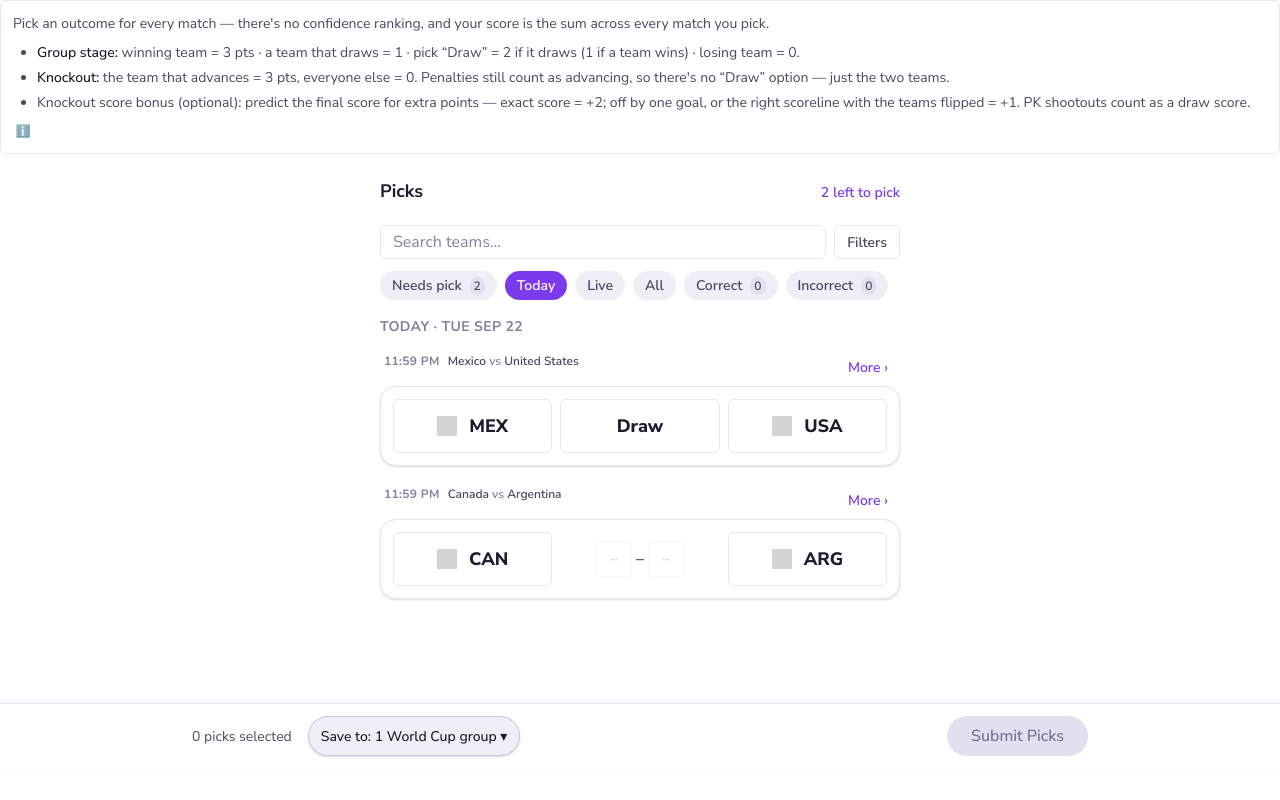
it: WorldCupPicksTab › fans the same picks out to every selected World Cup group via the dropdown
expect the element showing "Mexico vs United States" is shown: met, box [448,353,579,369]
Click the button "MEX" at (473, 426), box [393,399,552,453]
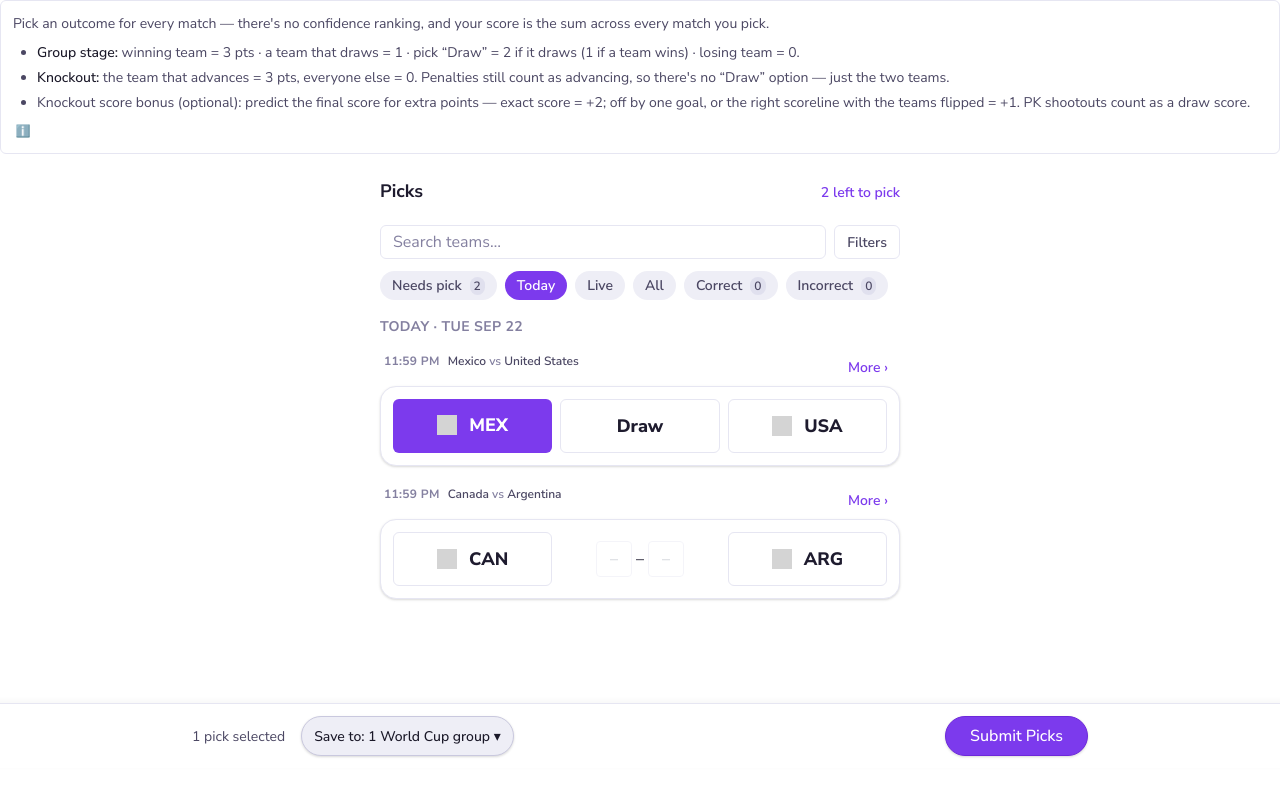
Click the button with aria-label "Choose groups to save picks to" at (407, 736), box [301,716,514,756]
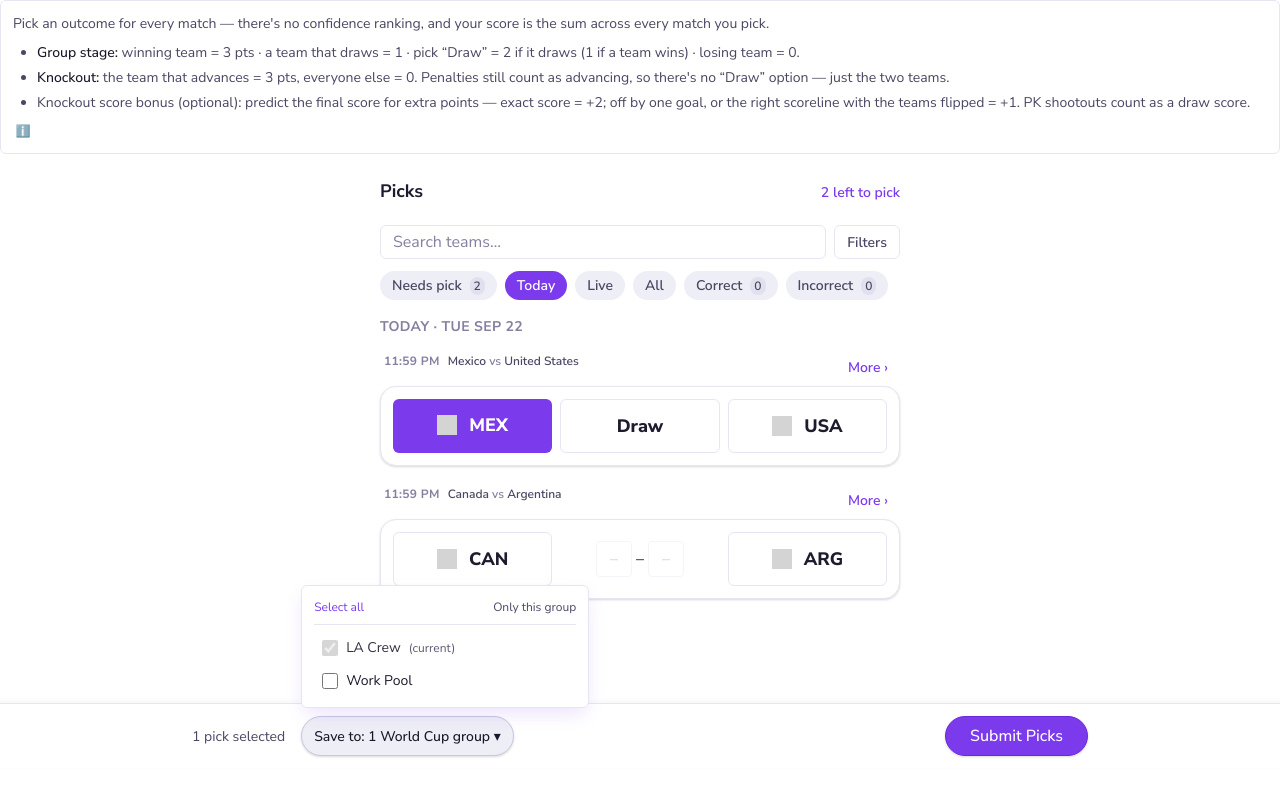
Click the checkbox labelled "Work Pool" at (330, 680), box [322,672,338,688]
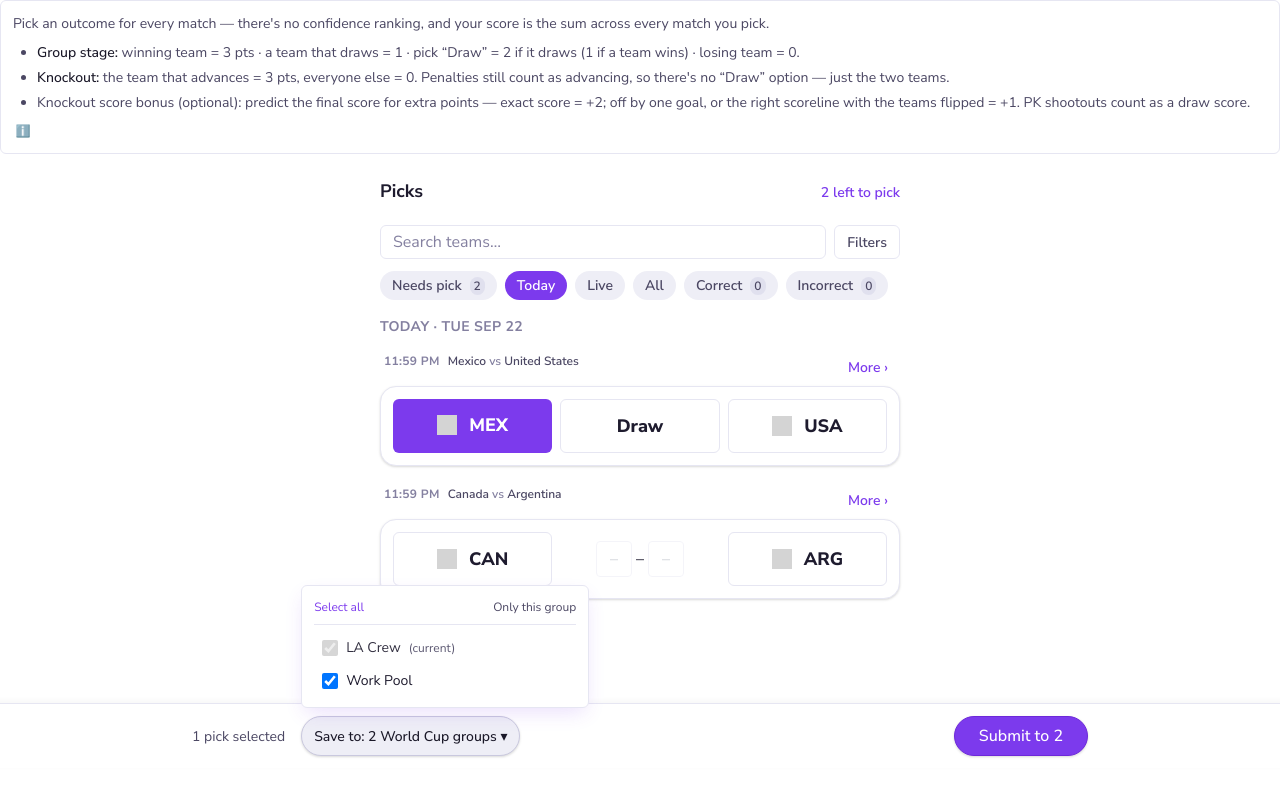
Click the button "Submit to 2" at (1021, 736), box [954,716,1088,756]
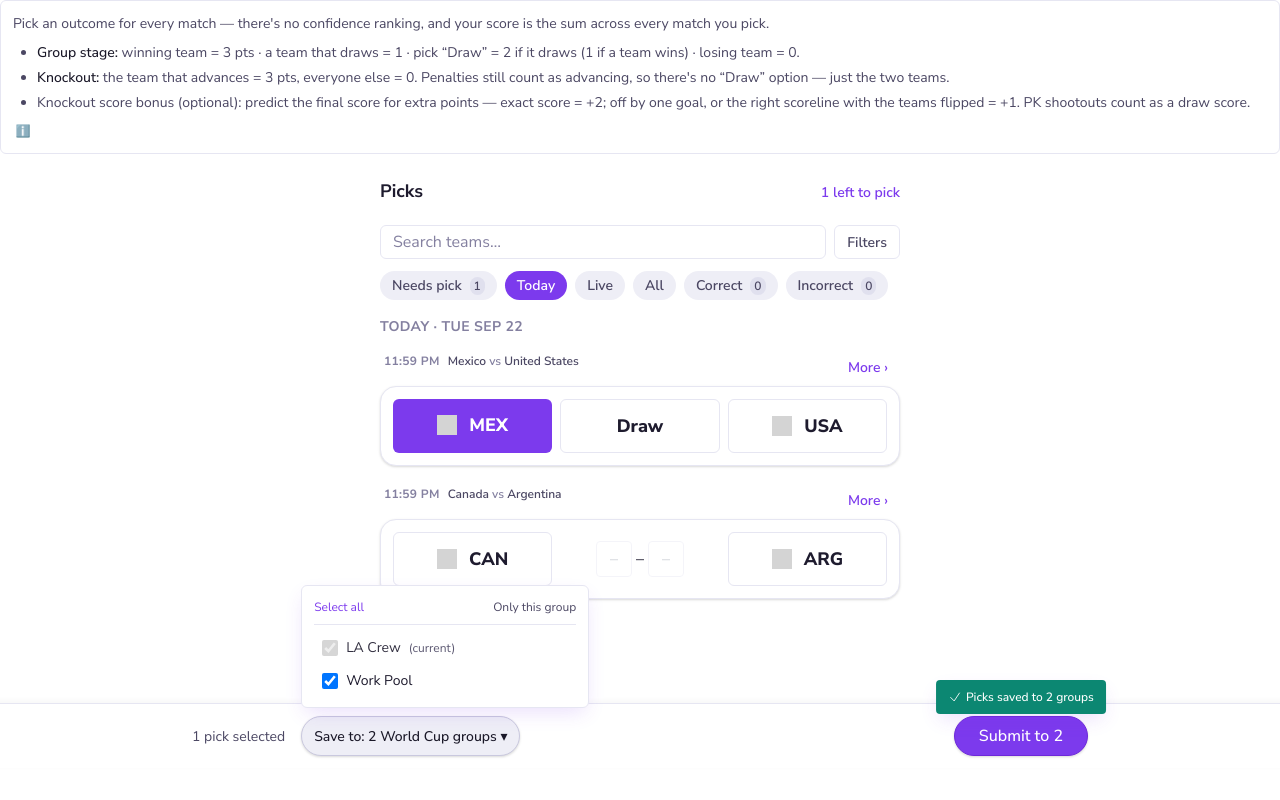
expect the text "Picks saved to 2 groups" is shown: met, box [936,680,1106,714]
